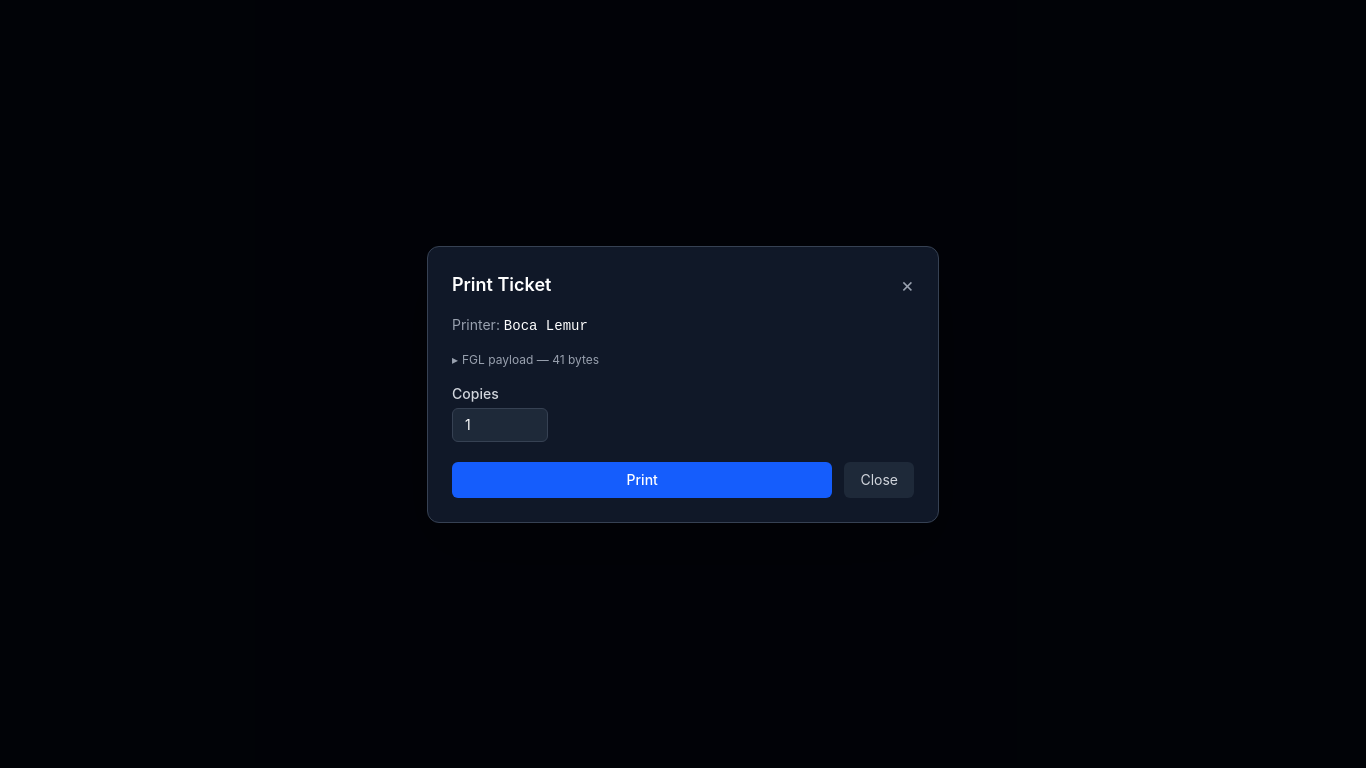
it: PrintDialog › shows error status for a copy when print fails
Step 1. Click the button "Print" → (642, 480), box [452,462,832,498]
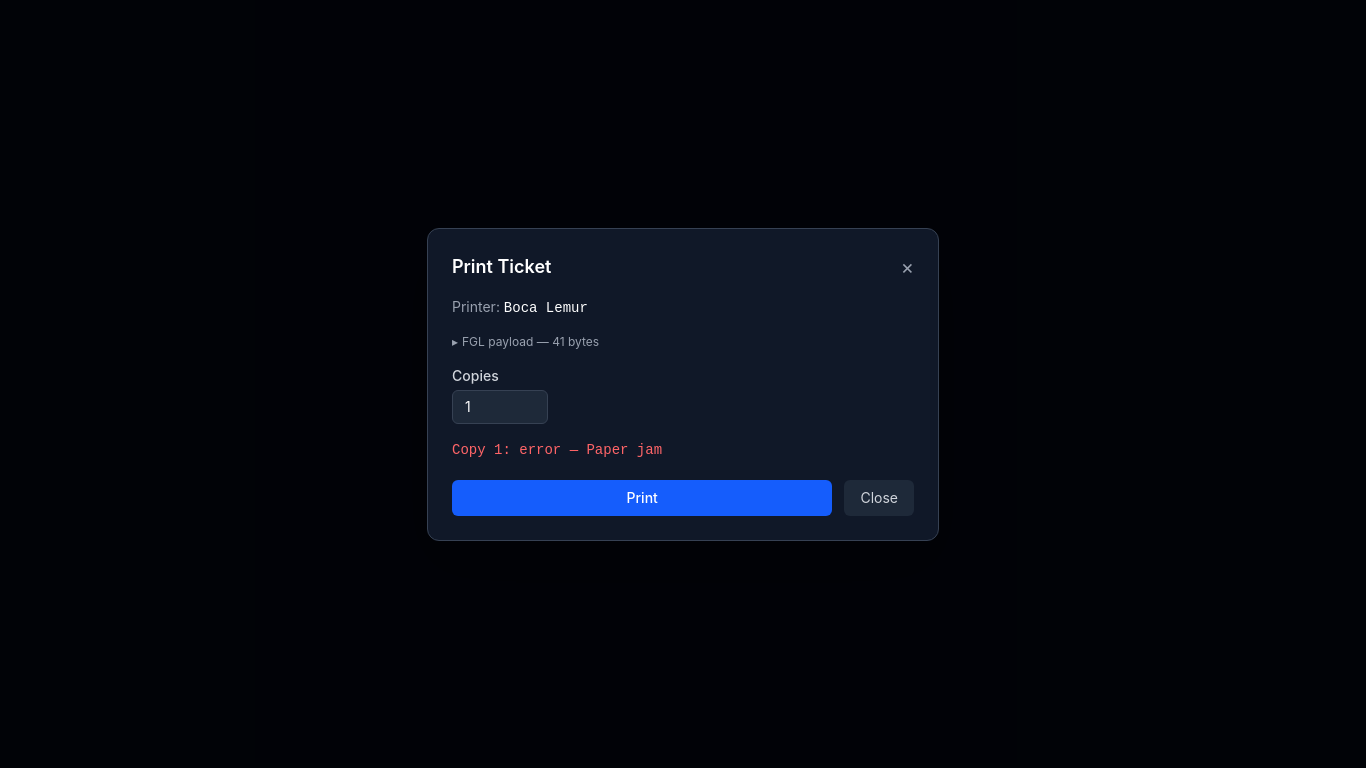
Expected: the list item "Copy 1: error — Paper jam" is shown, [452,442,662,458]
